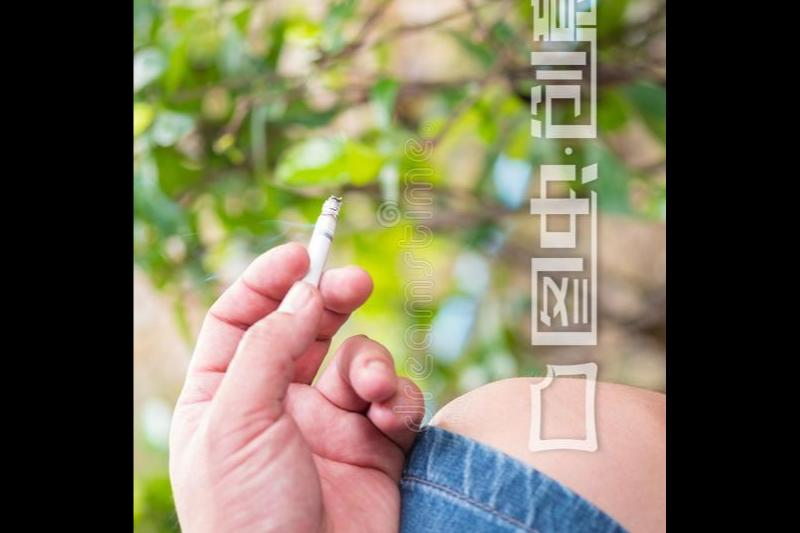Cigarette: (302, 196, 342, 305)
